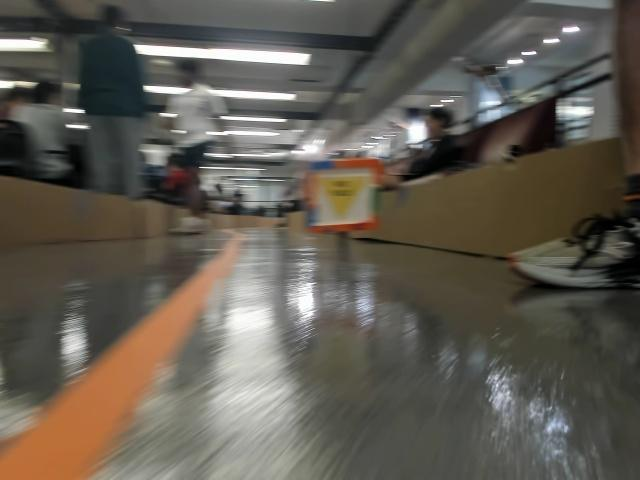Do Not Yield: (317, 175, 364, 213)
